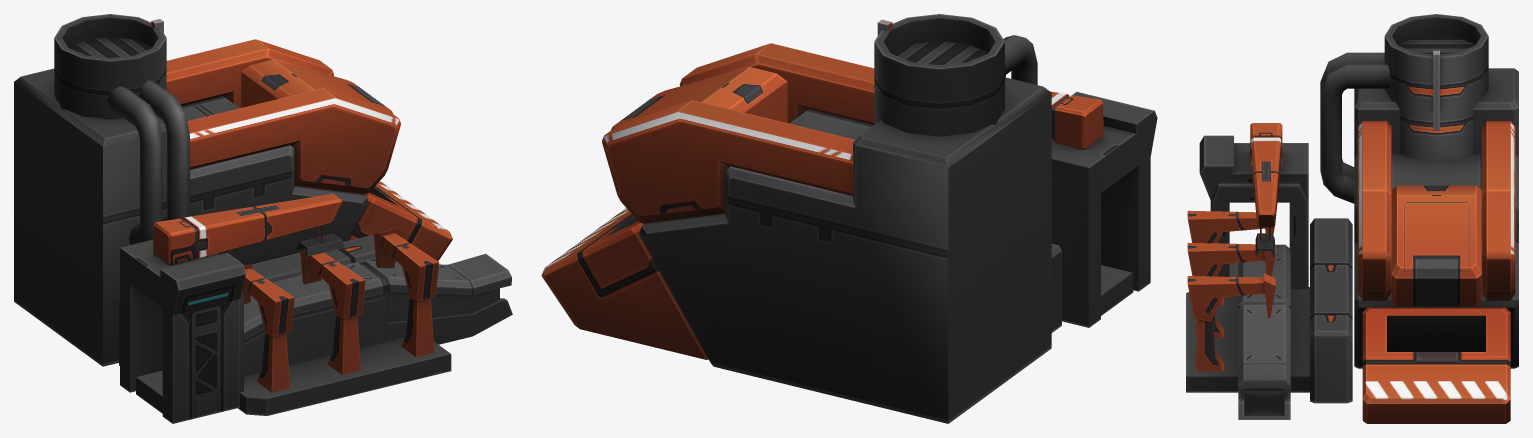
File: jiantichang_lv2.FBX
The picture shows the model from 3 angles, left to right: view 1: azimuth 30°, elevation 25°; view 2: azimuth 150°, elevation 25°; view 3: azimuth 270°, elevation 25°; orthographic projection. The views are drawn at different scales.
Parts seen in each view (by area): view 1: polySurface1; view 2: polySurface1; view 3: polySurface1.
Part boxes in pixels (box(x1,y1,x2,y2)): polySurface1: box(14, 14, 512, 423); polySurface1: box(541, 14, 1157, 423); polySurface1: box(1186, 14, 1518, 423).
Bounding box in the file's own units: 2639 × 2003 × 2251.
